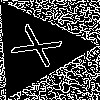X: (10, 23, 73, 74)
